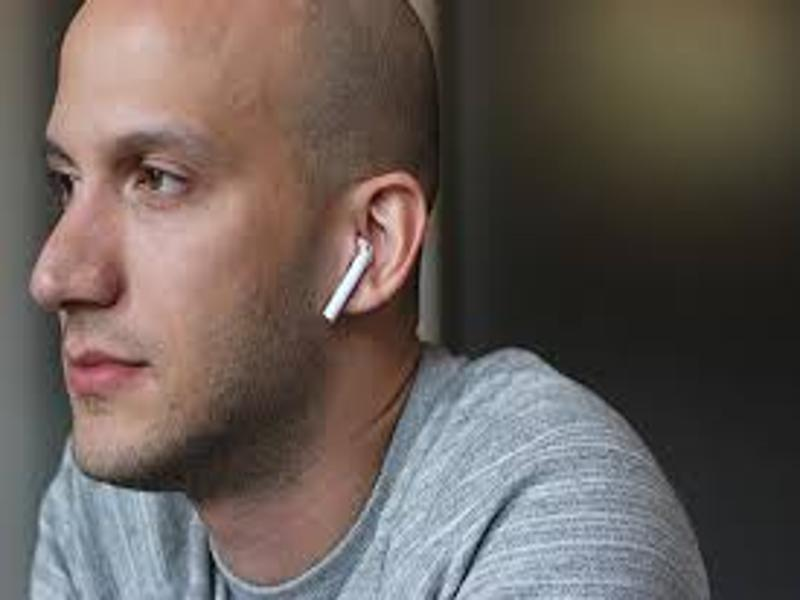headphone: (319, 235, 376, 323)
